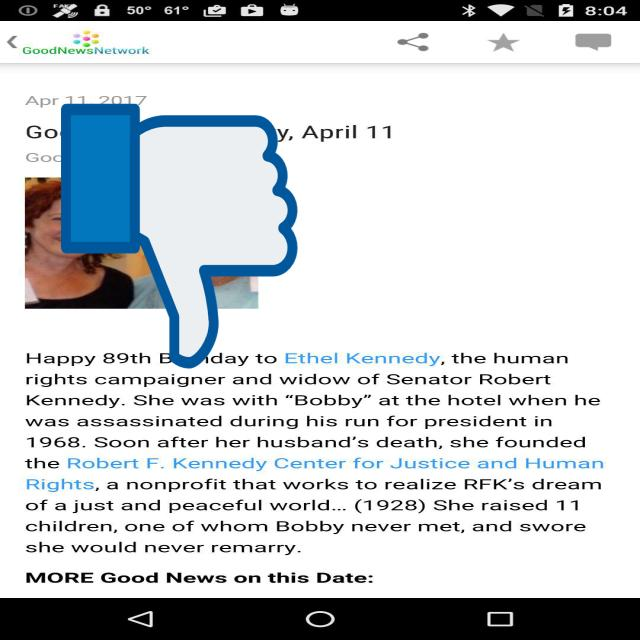obstruction: (61, 98, 298, 374)
